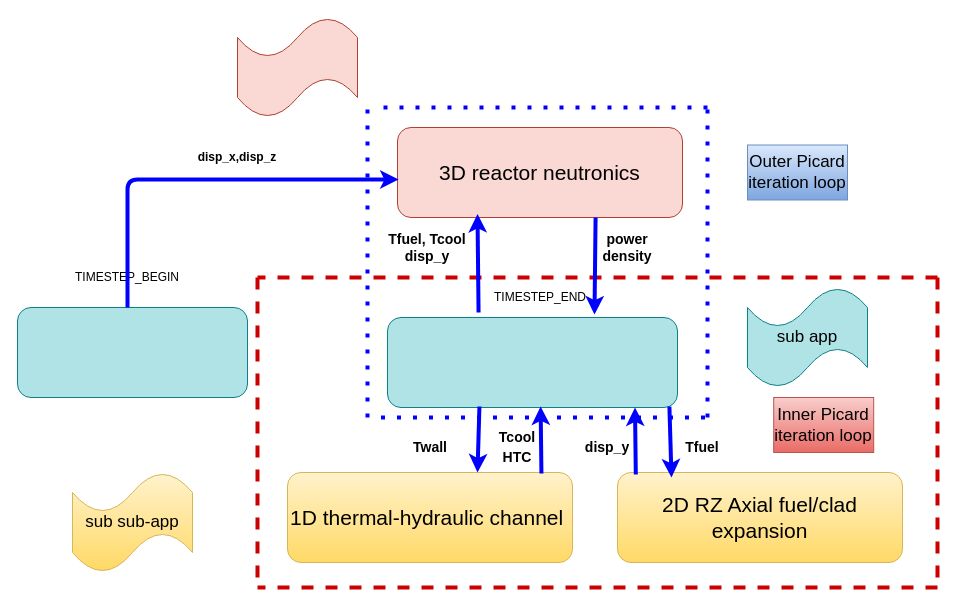
The diagram is 958 pixels wide and 608 high, and some of its shapes have lost their labels. The shapes that lost their labels are listed below. From the top down, each one's centre as x and y in pixels, then its label:
the point at 297,67: main App
the point at 132,352: 3D Core Support Plate (radial displacements)
the point at 532,362: 2D RZ Thermal fuel (one per Channel)
